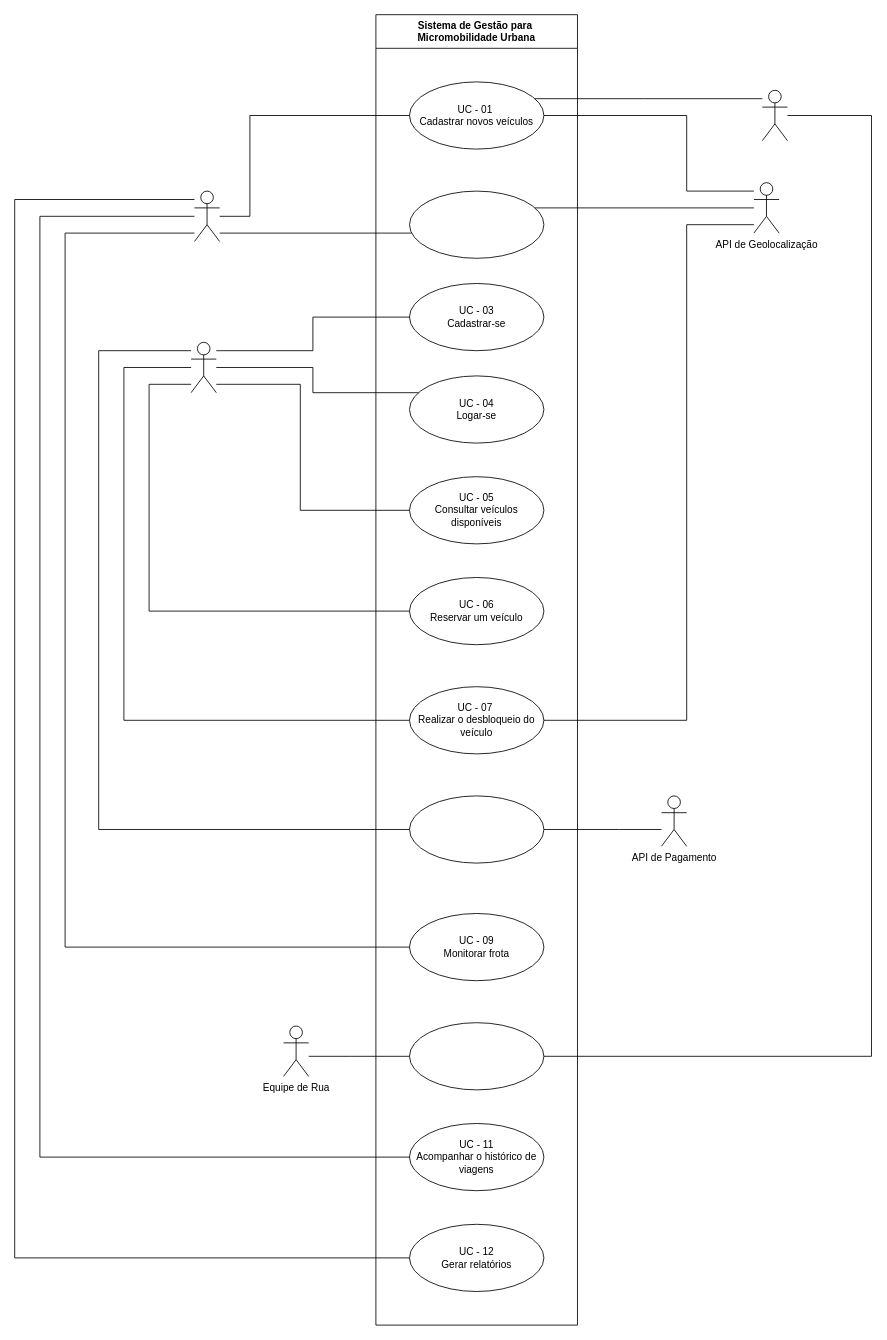
Image size: 887x1340. Some labels were removed from this diagram. The centre of each missing label's shape, as x and y in pixels:
"Administrador" goes at point 207,216.
"API do Veículo" goes at point 774,115.
"UC - 02 Gerenciar zonas de estacionamento" goes at point 476,224.
"UC - 08 Encerrar viagem" goes at point 476,829.
"UC - 10 Identificar veículos para manutenção ou recarga" goes at point 476,1056.
"Usuário" goes at point 203,367.
